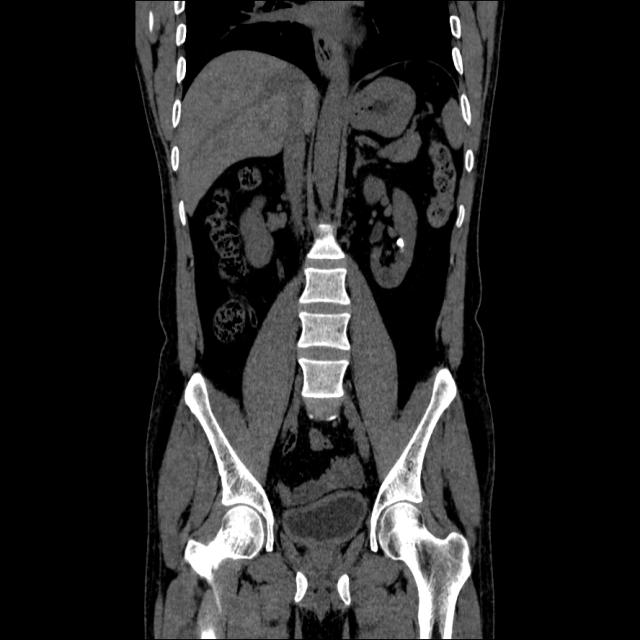kidneystone: (396, 238, 404, 249)
